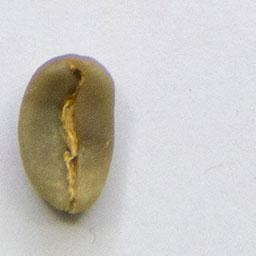longberry: (16, 49, 118, 218)
